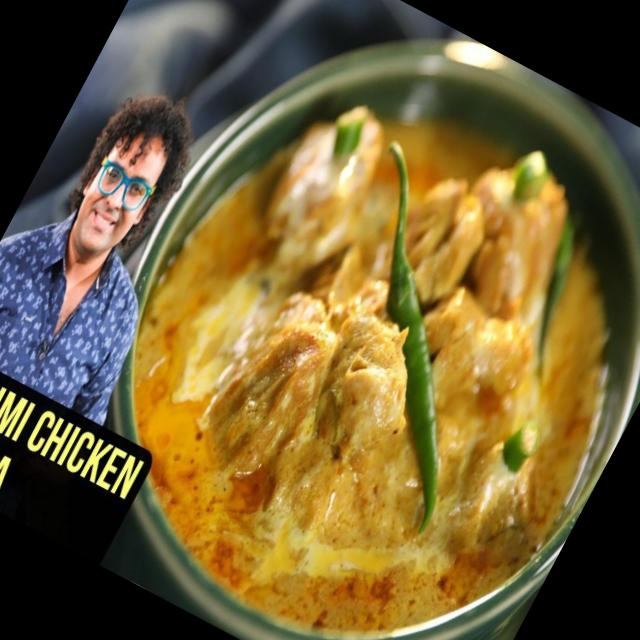chicken: (66, 25, 640, 640)
